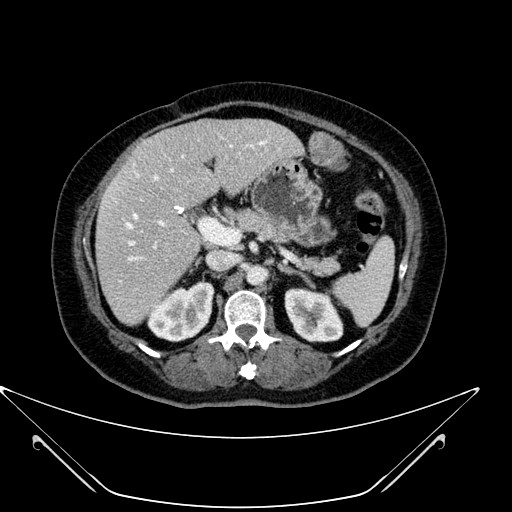clipe: (173, 204, 185, 215)
